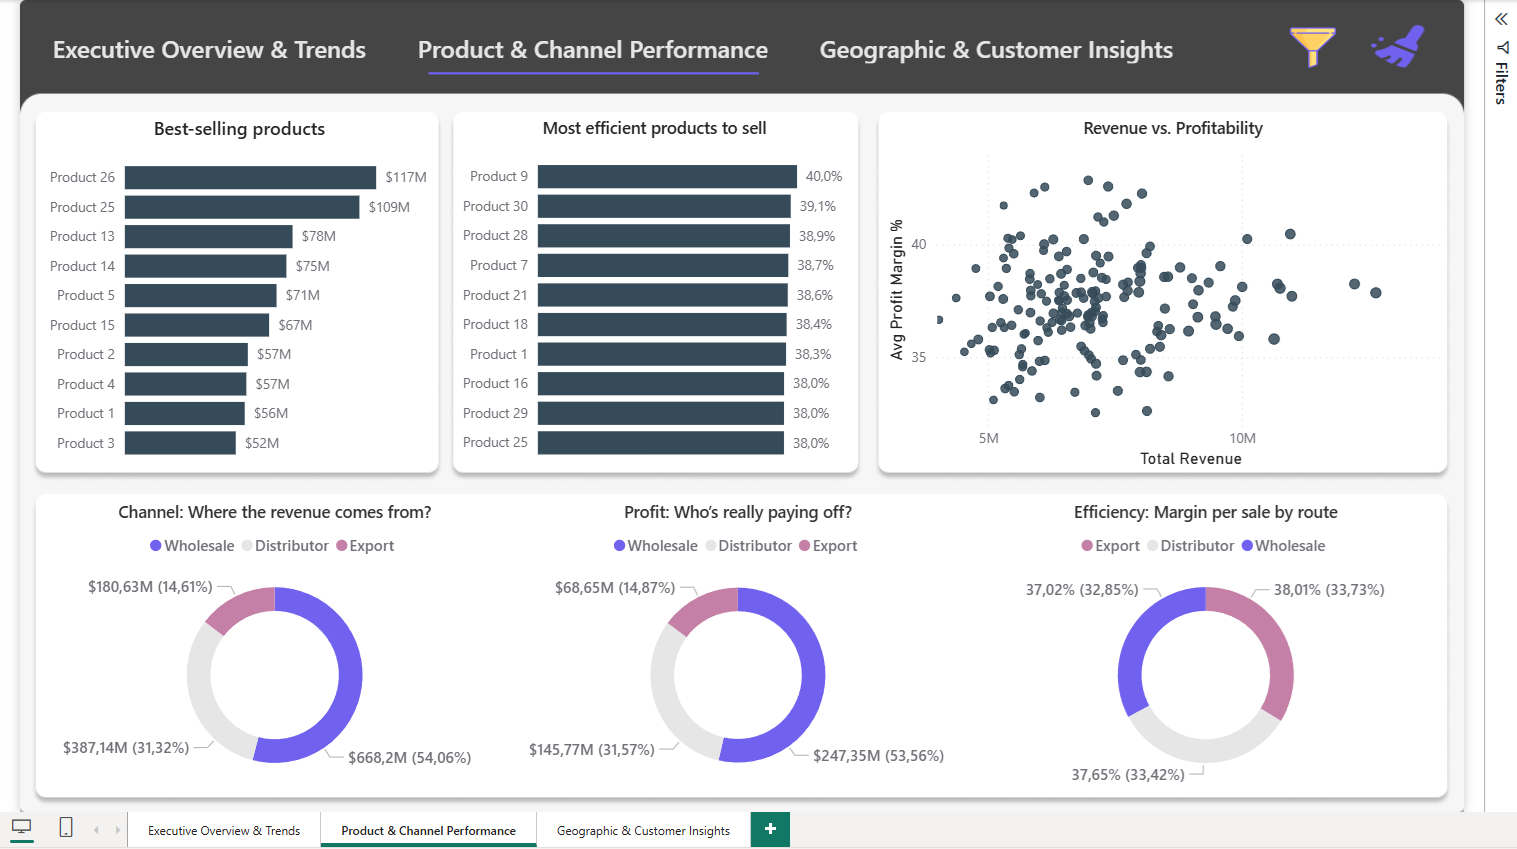

The page's visual inventory and layout, read from the dashboard file:
{"tool":"powerbi","page":{"name":"Product & Channel Performance","canvas":[1280,720],"ordinal":1},"visuals":[{"type":"barChart","title":"Best-selling products","fields":{"Category":["Sales_data.product_name"],"Y":["Measures_.Total Revenue"]},"box":[16,103,357,316],"z":0},{"type":"scatterChart","title":"Revenue vs. Profitability","fields":{"X":["Customer Summary.Total Revenue"],"Y":["Customer Summary.Avg Profit Margin %"],"Size":["Sum(Customer Summary.Order Count)"]},"box":[764,103,516,317],"z":1000},{"type":"barChart","title":"Most efficient products to sell","fields":{"Category":["Sales_data.product_name"],"Y":["Measures_.Profit Margin %"]},"box":[382,103,361,316],"z":2000},{"type":"donutChart","title":"Channel: Where the revenue comes from?","fields":{"Category":["Sales_data.channel"],"Y":["Measures_.Total Revenue"]},"box":[20.9,443.6,409.1,261.8],"z":3000},{"type":"donutChart","title":"Profit: Who’s really paying off?","fields":{"Category":["Sales_data.channel"],"Y":["Measures_.Total Profit"]},"box":[441.8,443.6,390,261.8],"z":4000},{"type":"donutChart","title":"Efficiency: Margin per sale by route","fields":{"Category":["Sales_data.channel"],"Y":["Measures_.Profit Margin %"]},"box":[844.5,443.6,414.5,261.8],"z":5000},{"type":"actionButton","box":[337.2,14.1,342.3,55.1],"z":6000},{"type":"actionButton","box":[9,14.1,317.9,55.1],"z":7000},{"type":"actionButton","box":[695,13.8,341.2,55],"z":8000},{"type":"actionButton","box":[1188,14,70,55],"z":9000},{"type":"actionButton","box":[1120,21,53,42],"z":10000}]}

Visuals, with their boxes on the page's 1280x720 design canvas (x1, y1, x2, y2). These are canvas units, not pixel positions in the 1517x849 screenshot, which may show the page scaled, cropped or inside an application window:
"Best-selling products" barChart: (x1=16, y1=103, x2=373, y2=419)
"Revenue vs. Profitability" scatterChart: (x1=764, y1=103, x2=1280, y2=420)
"Most efficient products to sell" barChart: (x1=382, y1=103, x2=743, y2=419)
"Channel: Where the revenue comes from?" donutChart: (x1=21, y1=444, x2=430, y2=705)
"Profit: Who’s really paying off?" donutChart: (x1=442, y1=444, x2=832, y2=705)
"Efficiency: Margin per sale by route" donutChart: (x1=844, y1=444, x2=1259, y2=705)
actionButton: (x1=337, y1=14, x2=680, y2=69)
actionButton: (x1=9, y1=14, x2=327, y2=69)
actionButton: (x1=695, y1=14, x2=1036, y2=69)
actionButton: (x1=1188, y1=14, x2=1258, y2=69)
actionButton: (x1=1120, y1=21, x2=1173, y2=63)
